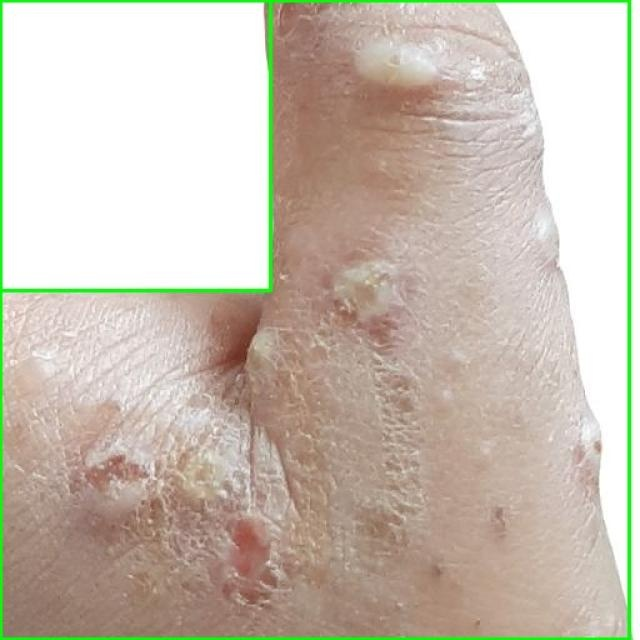Scabies: (0, 0, 629, 639), (0, 0, 270, 290)
